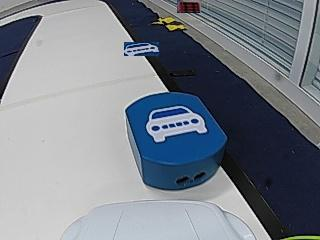safety: (146, 104, 208, 141)
